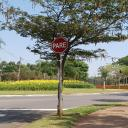Pare: (50, 36, 69, 54)
